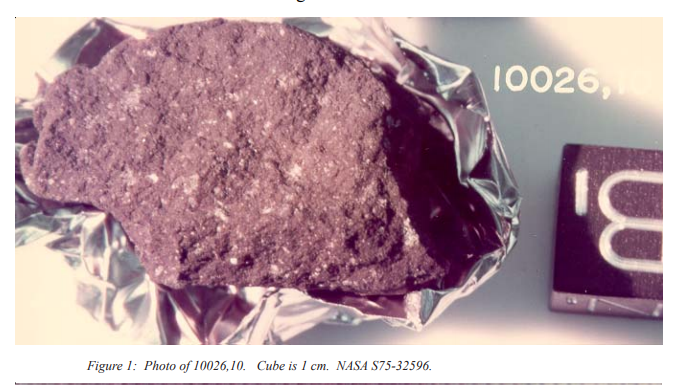Breccia: (16, 23, 508, 319), (108, 79, 411, 255)
